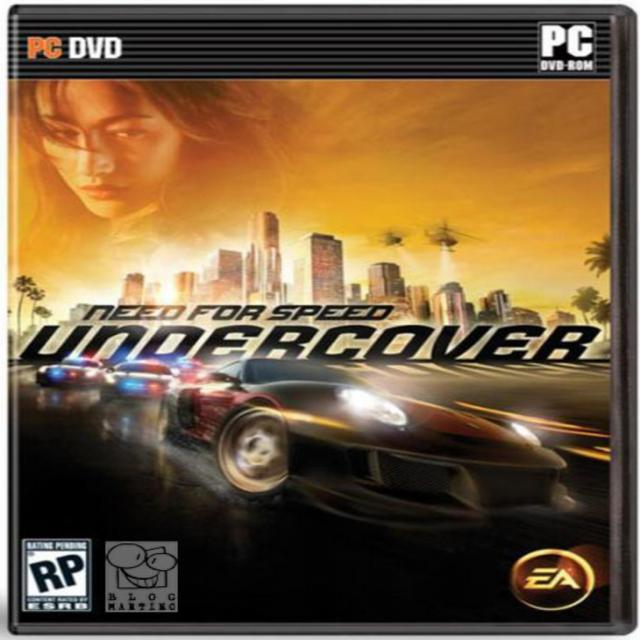other: (162, 359, 581, 529), (95, 360, 168, 402), (34, 356, 102, 392)
